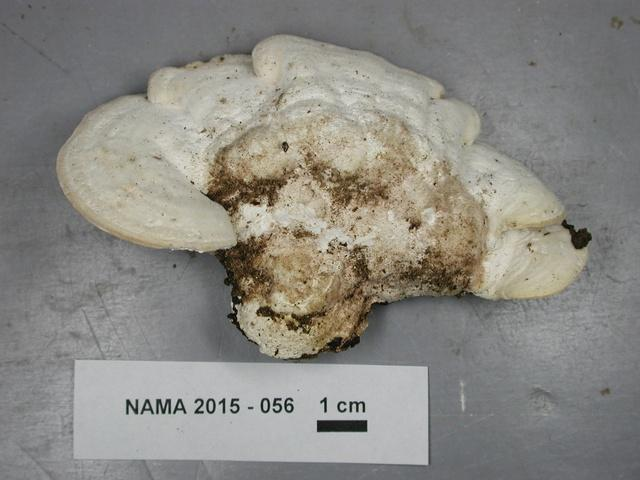Non-edible Mushroom: (54, 32, 592, 360)
